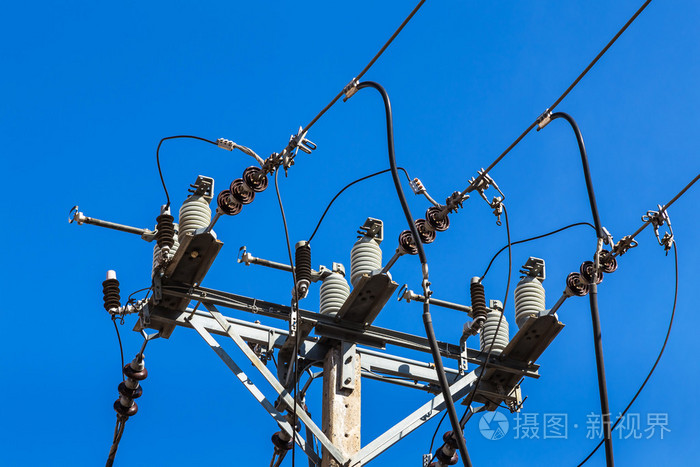insulator: (564, 246, 619, 297), (215, 163, 267, 214), (400, 207, 454, 255), (115, 362, 146, 414), (438, 433, 465, 464)
